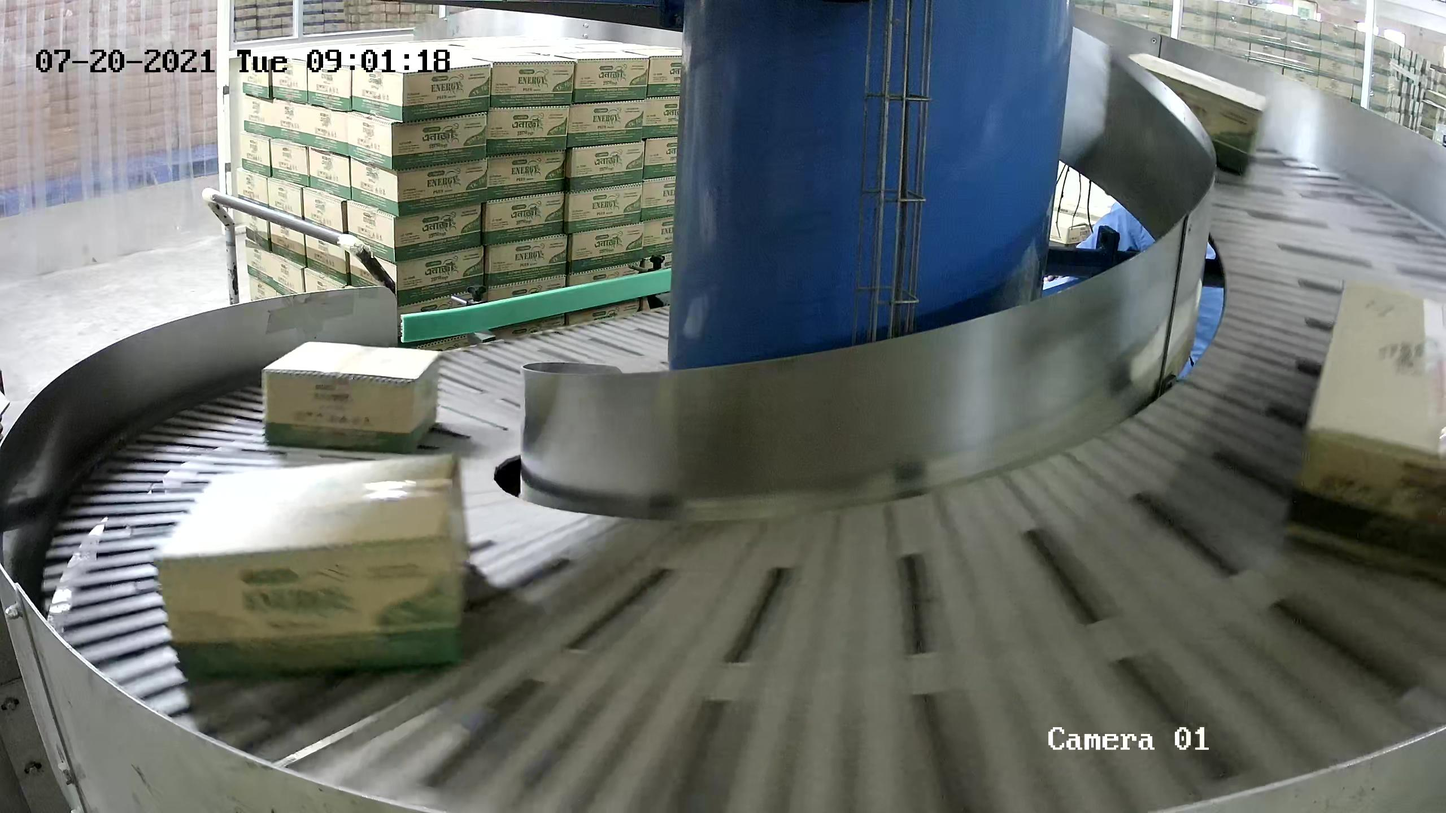Box: (150, 452, 473, 680), (1284, 275, 1446, 597), (262, 339, 443, 452), (1104, 55, 1265, 177)
